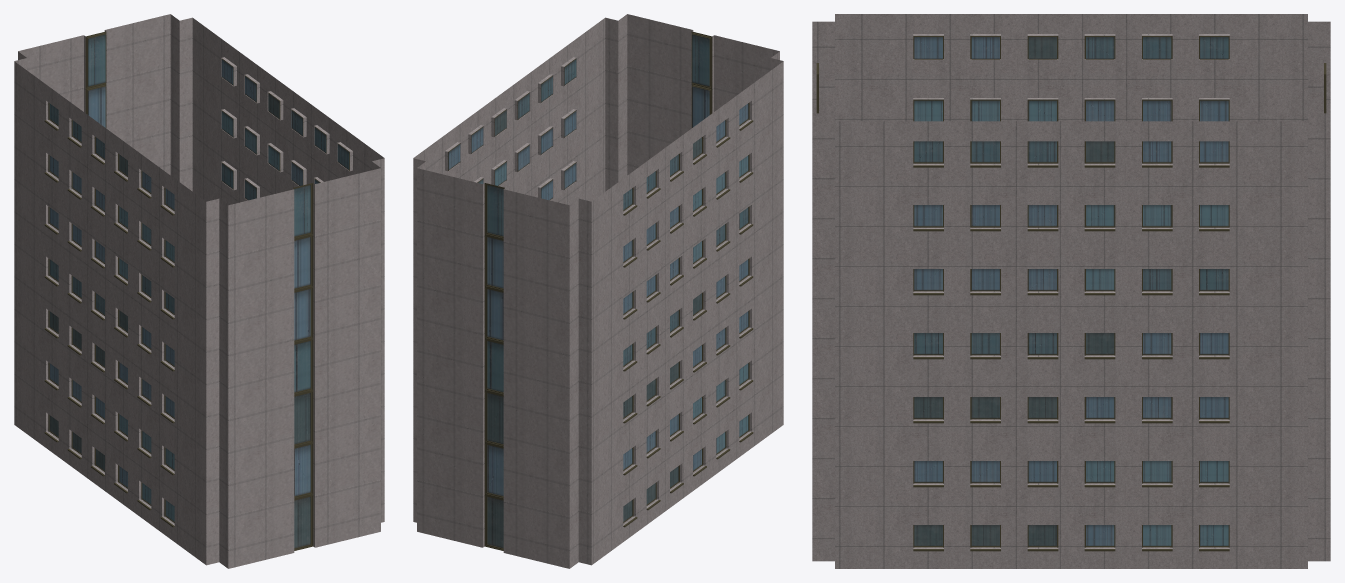
File: jctBld24_12E_mdl.fbx
3 views of the same model, side by side, from view 1: azimuth 30°, elevation 25°; view 2: azimuth 150°, elevation 25°; view 3: azimuth 270°, elevation 25° (orthographic). The views are drawn at different scales.
Parts seen in each view (by area): view 1: jctBld24_12E_mdl_LOD0; view 2: jctBld24_12E_mdl_LOD0; view 3: jctBld24_12E_mdl_LOD0.
Part boxes in pixels (left/top/right/bottom): jctBld24_12E_mdl_LOD0: left=14, top=14, right=384, bottom=568; jctBld24_12E_mdl_LOD0: left=413, top=14, right=783, bottom=568; jctBld24_12E_mdl_LOD0: left=812, top=14, right=1330, bottom=568.
Bounding box in the file's own units: 1170 × 2240 × 2350.
